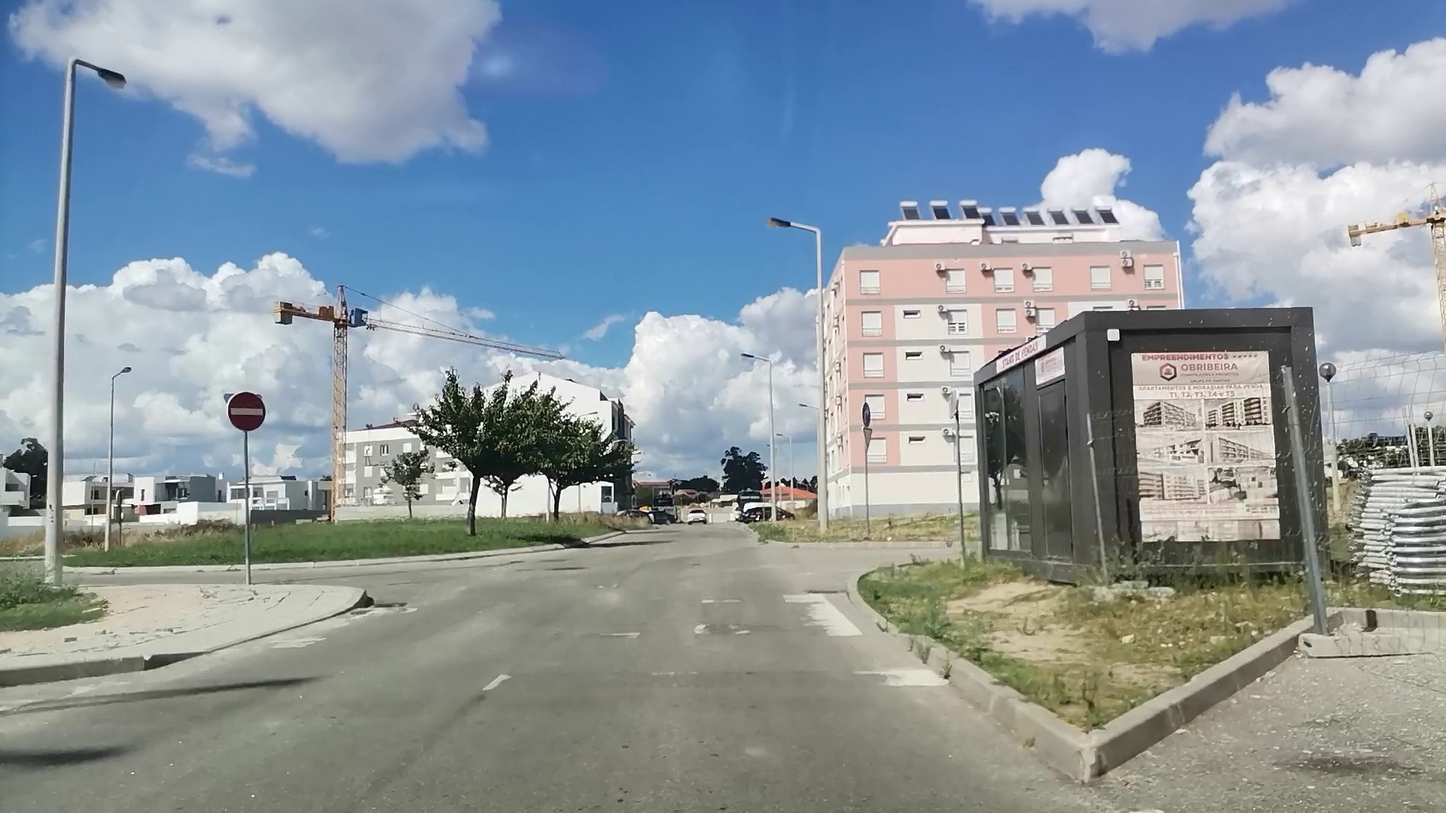Stairs: (261, 583, 876, 646)
